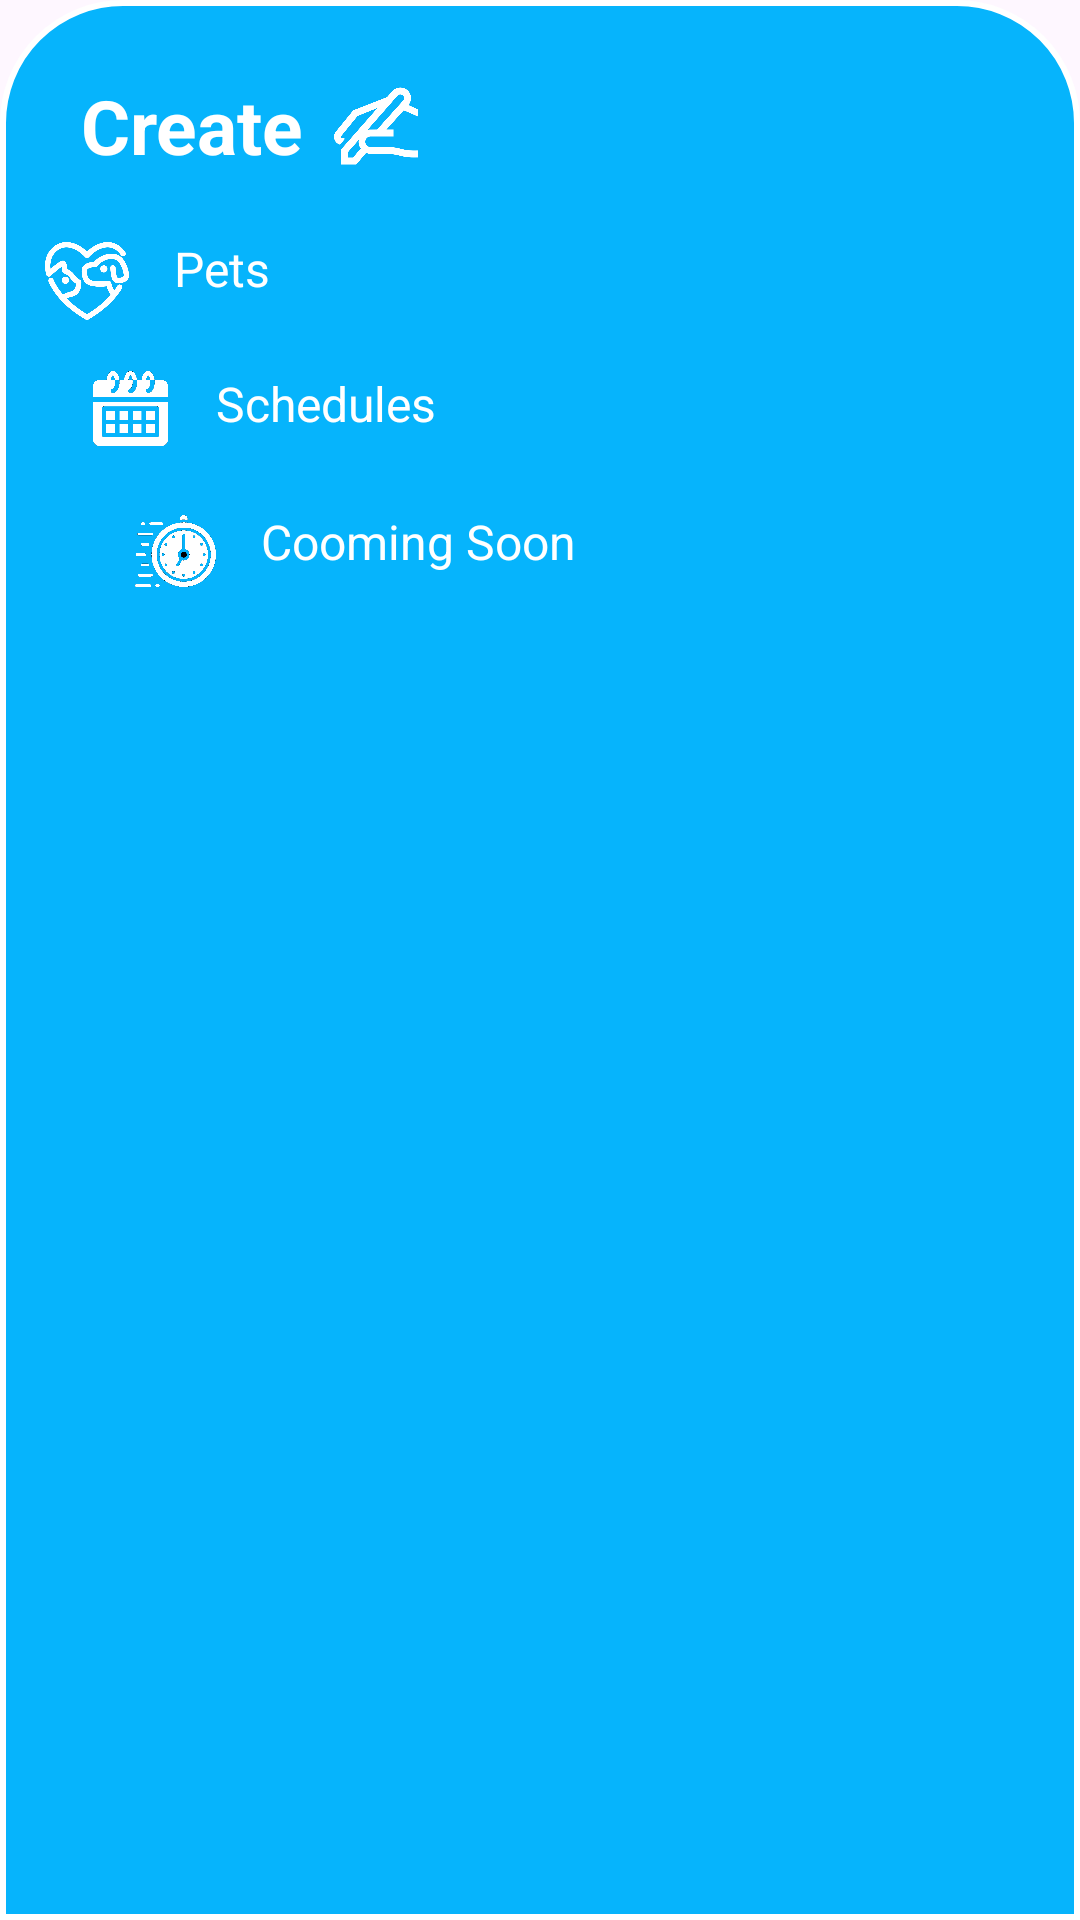

Named icons in this screenshot (1080w x 1920h) and their centers, point (x, y):
calendario: point (130, 408)
